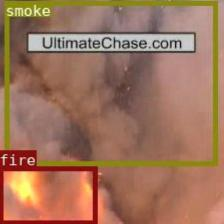fire: (0, 166, 96, 224)
smoke: (4, 0, 216, 165)
